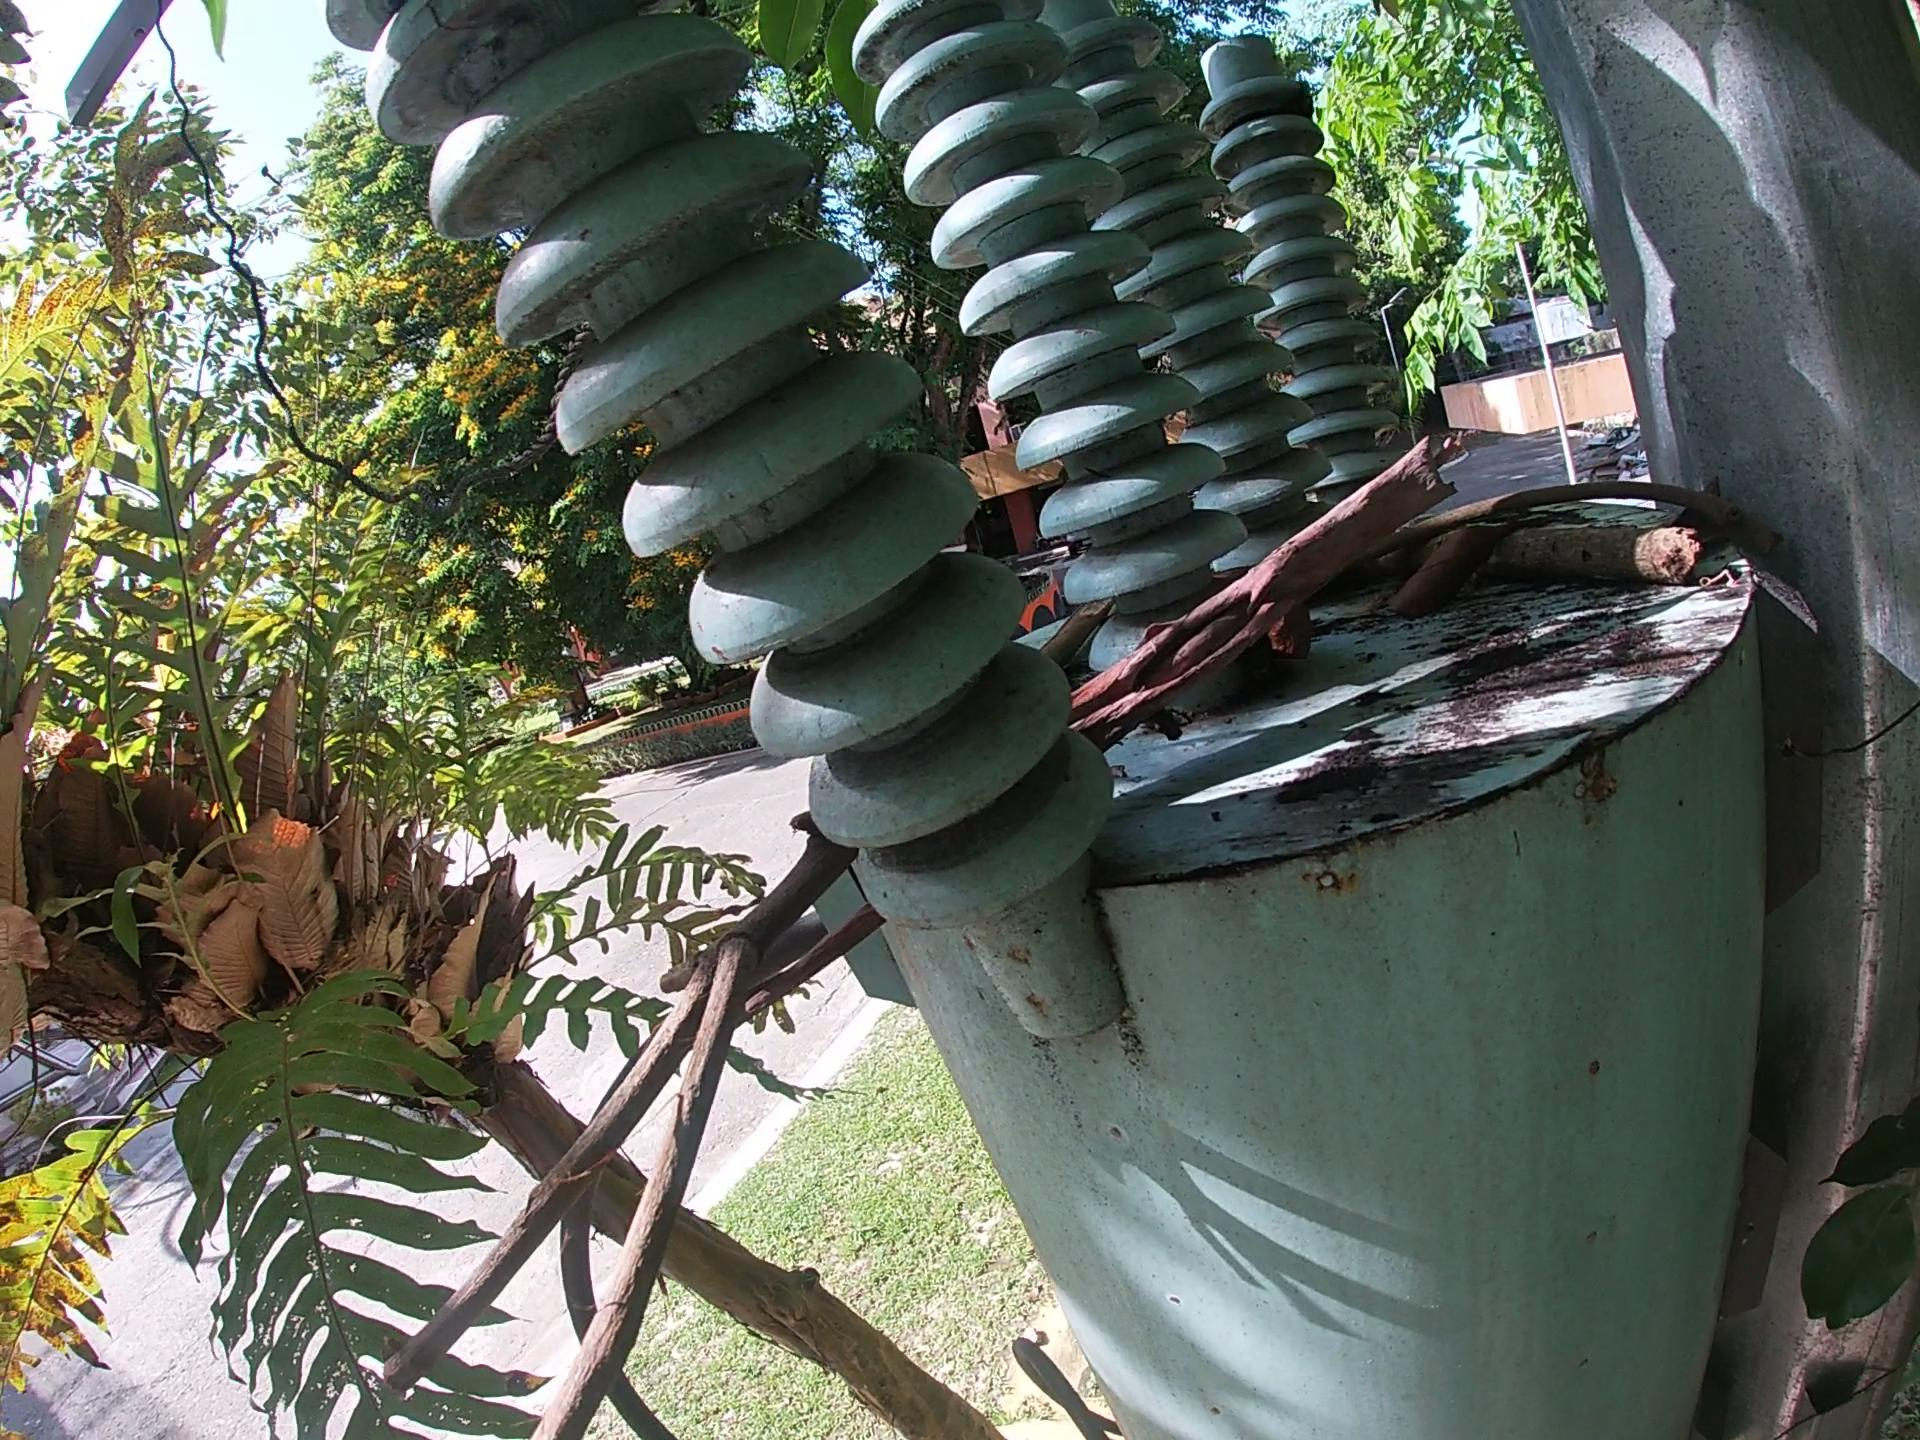leaf: (1376, 513, 1528, 628)
tree branch: (346, 812, 857, 1440), (1067, 425, 1473, 762), (1377, 473, 1788, 563), (1371, 514, 1699, 588), (735, 898, 884, 1024)
